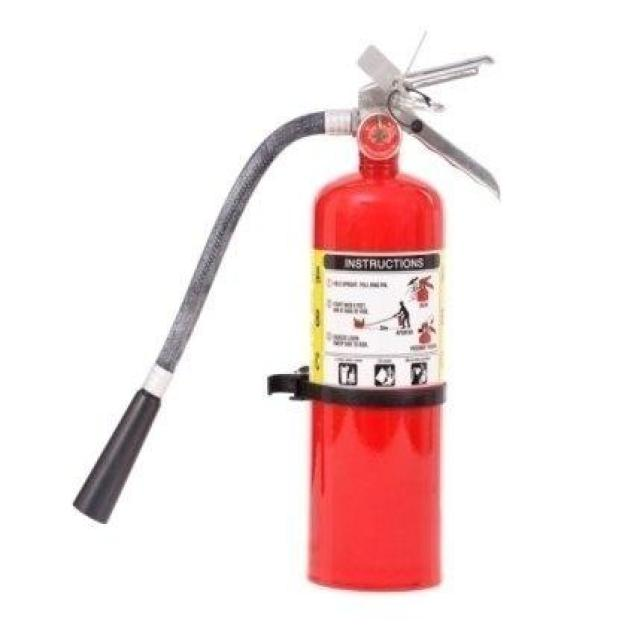fire_extinguisher: (61, 39, 504, 600)
